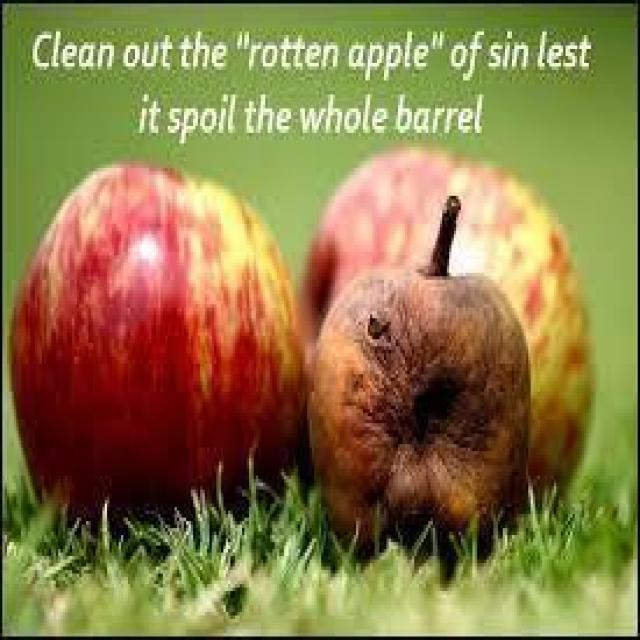maca: (7, 158, 305, 532), (305, 189, 530, 563)
